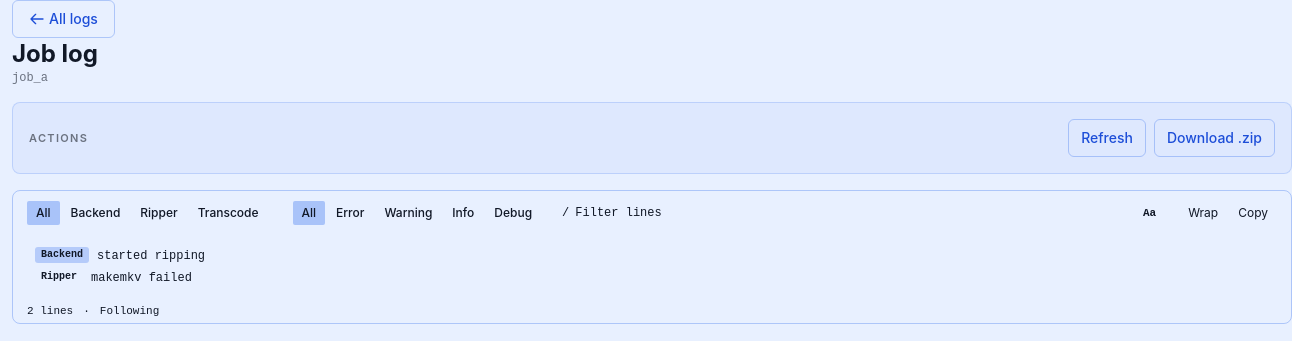
Test: Logs single-job viewer › filters by level
Expected: the text "started ripping" is shown, x1=97 y1=247 x2=205 y2=265
Click the radio button with test id "job-log-level-error".
click(350, 213)  # box x1=327 y1=201 x2=373 y2=225
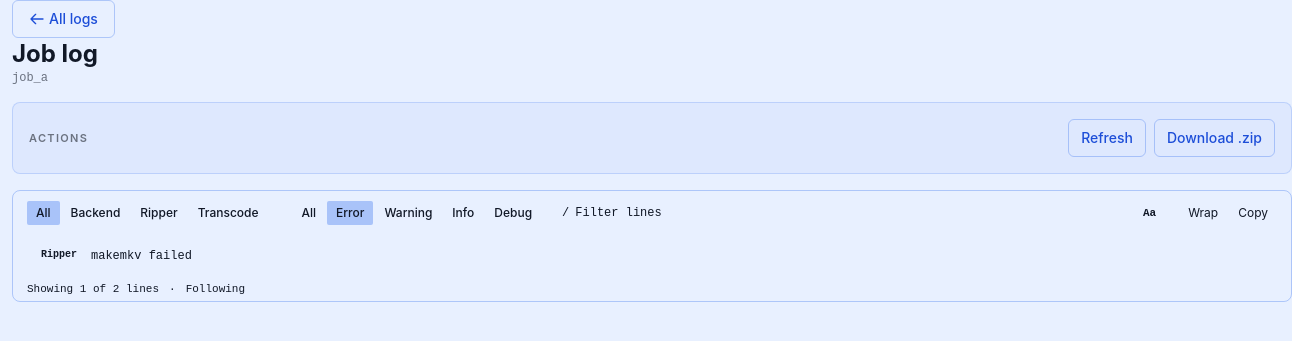
Now the text "started ripping" is gone
Now the text "makemkv failed" is shown, box x1=91 y1=247 x2=192 y2=265
